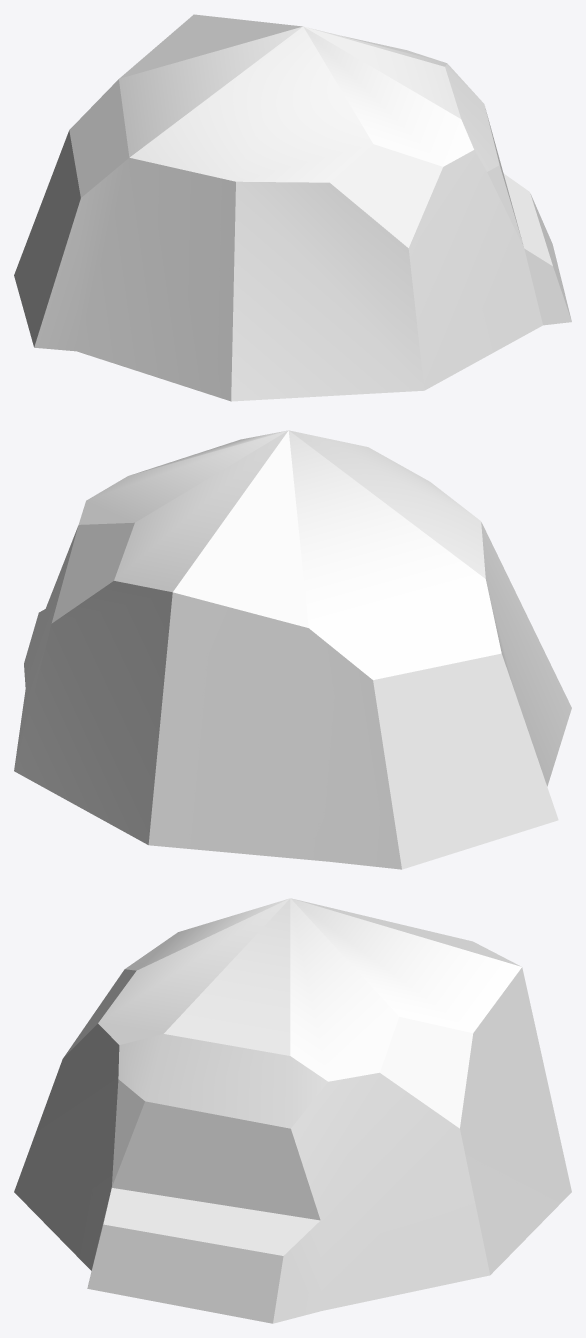
File: rock1.fbx
The picture shows the model from 3 angles, top to bottom: view 1: azimuth 30°, elevation 25°; view 2: azimuth 150°, elevation 25°; view 3: azimuth 270°, elevation 25°; orthographic projection. The views are drawn at different scales.
Visible parts, largest first — view 1: Object082; view 2: Object082; view 3: Object082.
Boxes of the visible parts, box(x1,y1,x2,y2) form: Object082: box(14, 14, 571, 401); Object082: box(14, 430, 571, 869); Object082: box(14, 898, 571, 1323).
Bounding box in the file's own units: 74.36 × 38.85 × 66.26.
